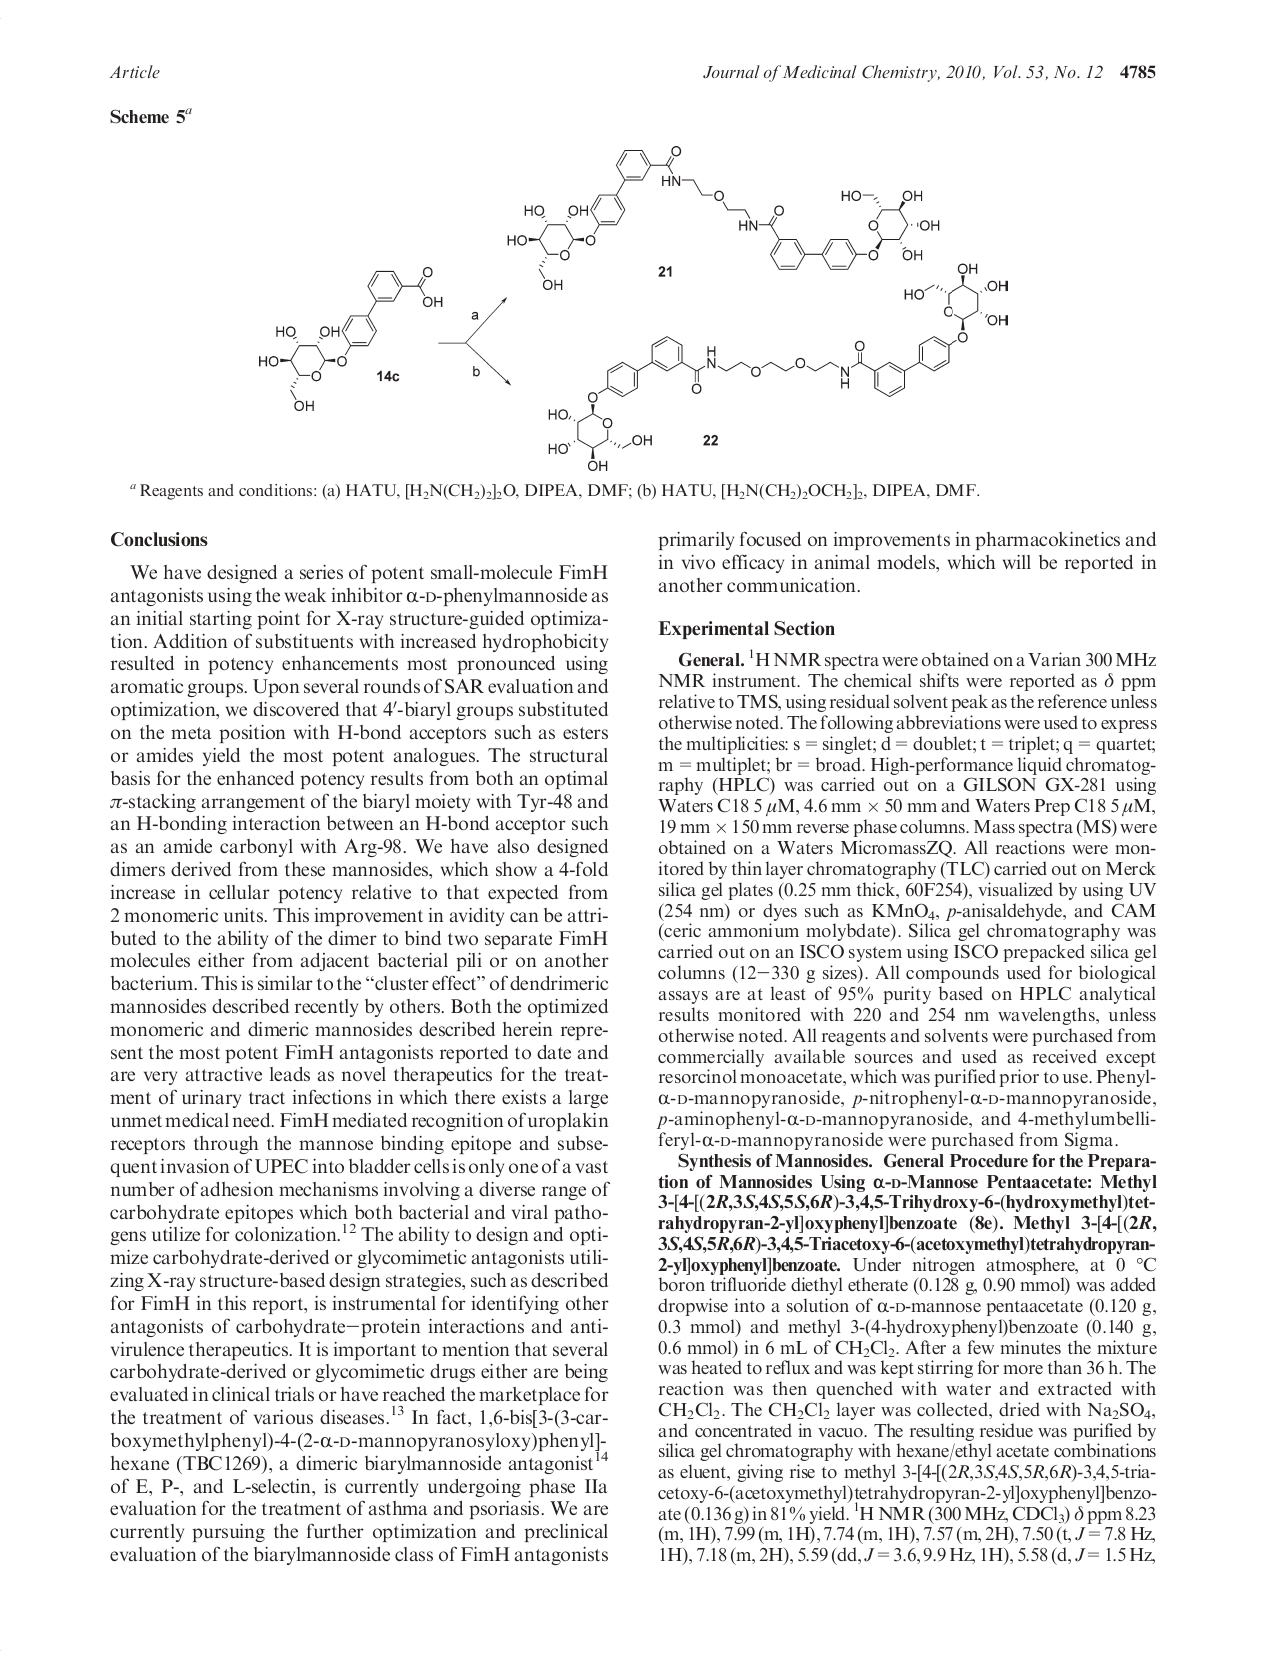exist_molecular: (545, 261, 1013, 472), (504, 141, 940, 290), (257, 261, 448, 414)
